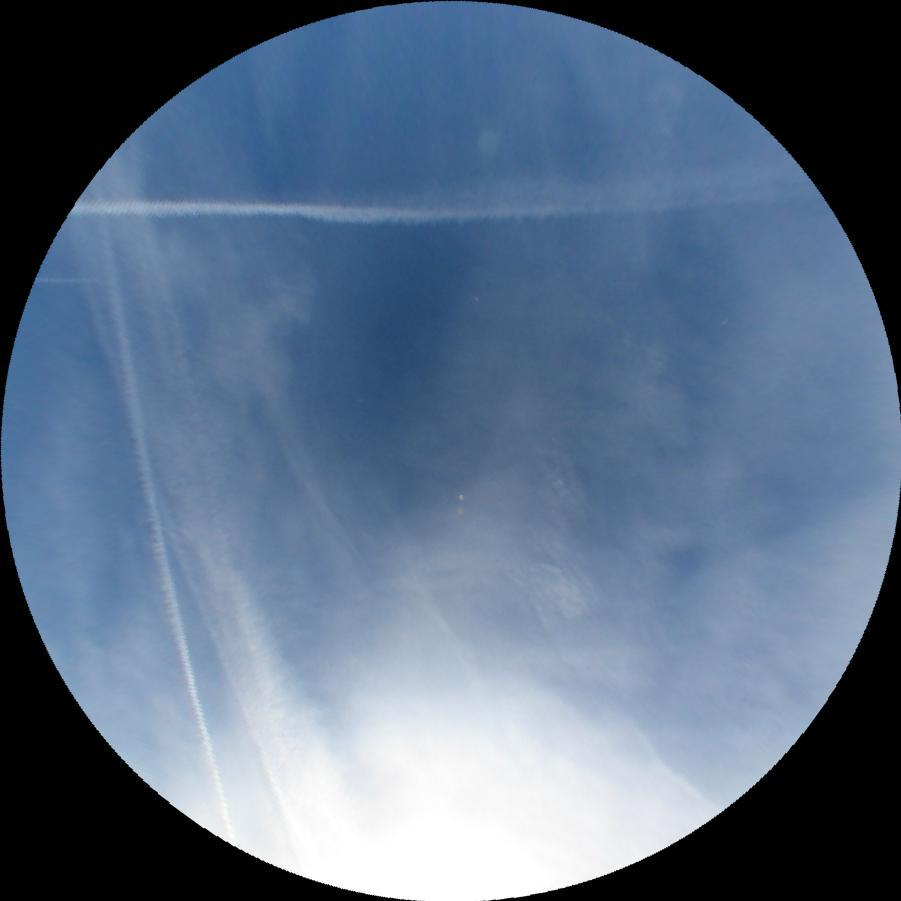contrail old: (76, 178, 239, 852)
contrail veryold: (68, 165, 817, 231)
contrail young: (34, 274, 102, 282)
